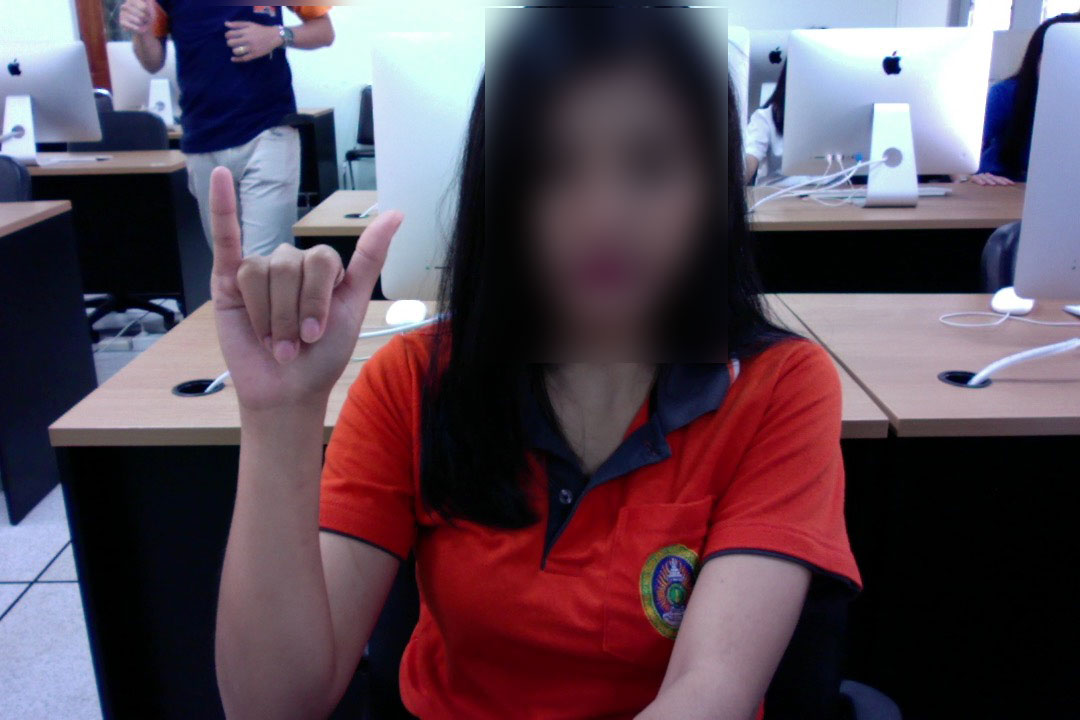yor: (201, 157, 412, 446)
